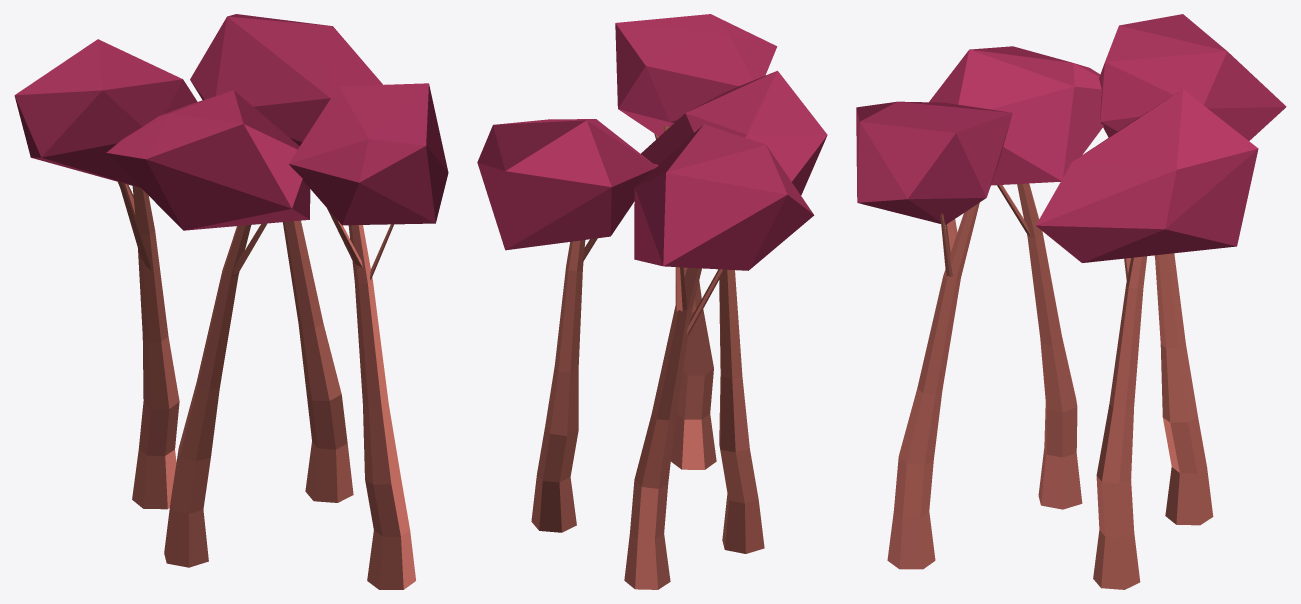
The model's file is Bush2_autumn.FBX.
The picture shows the model from 3 angles, left to right: view 1: azimuth 30°, elevation 25°; view 2: azimuth 150°, elevation 25°; view 3: azimuth 270°, elevation 25°; orthographic projection. The views are drawn at different scales.
Visible parts, largest first — view 1: bush_sml.003; view 2: bush_sml.003; view 3: bush_sml.003.
Part boxes in pixels (x1,y1,x2,y2): bush_sml.003: (14, 14, 448, 589); bush_sml.003: (477, 14, 827, 589); bush_sml.003: (856, 14, 1286, 589).
Bounding box in the file's own units: 0.8248 × 1.09 × 0.9282.
